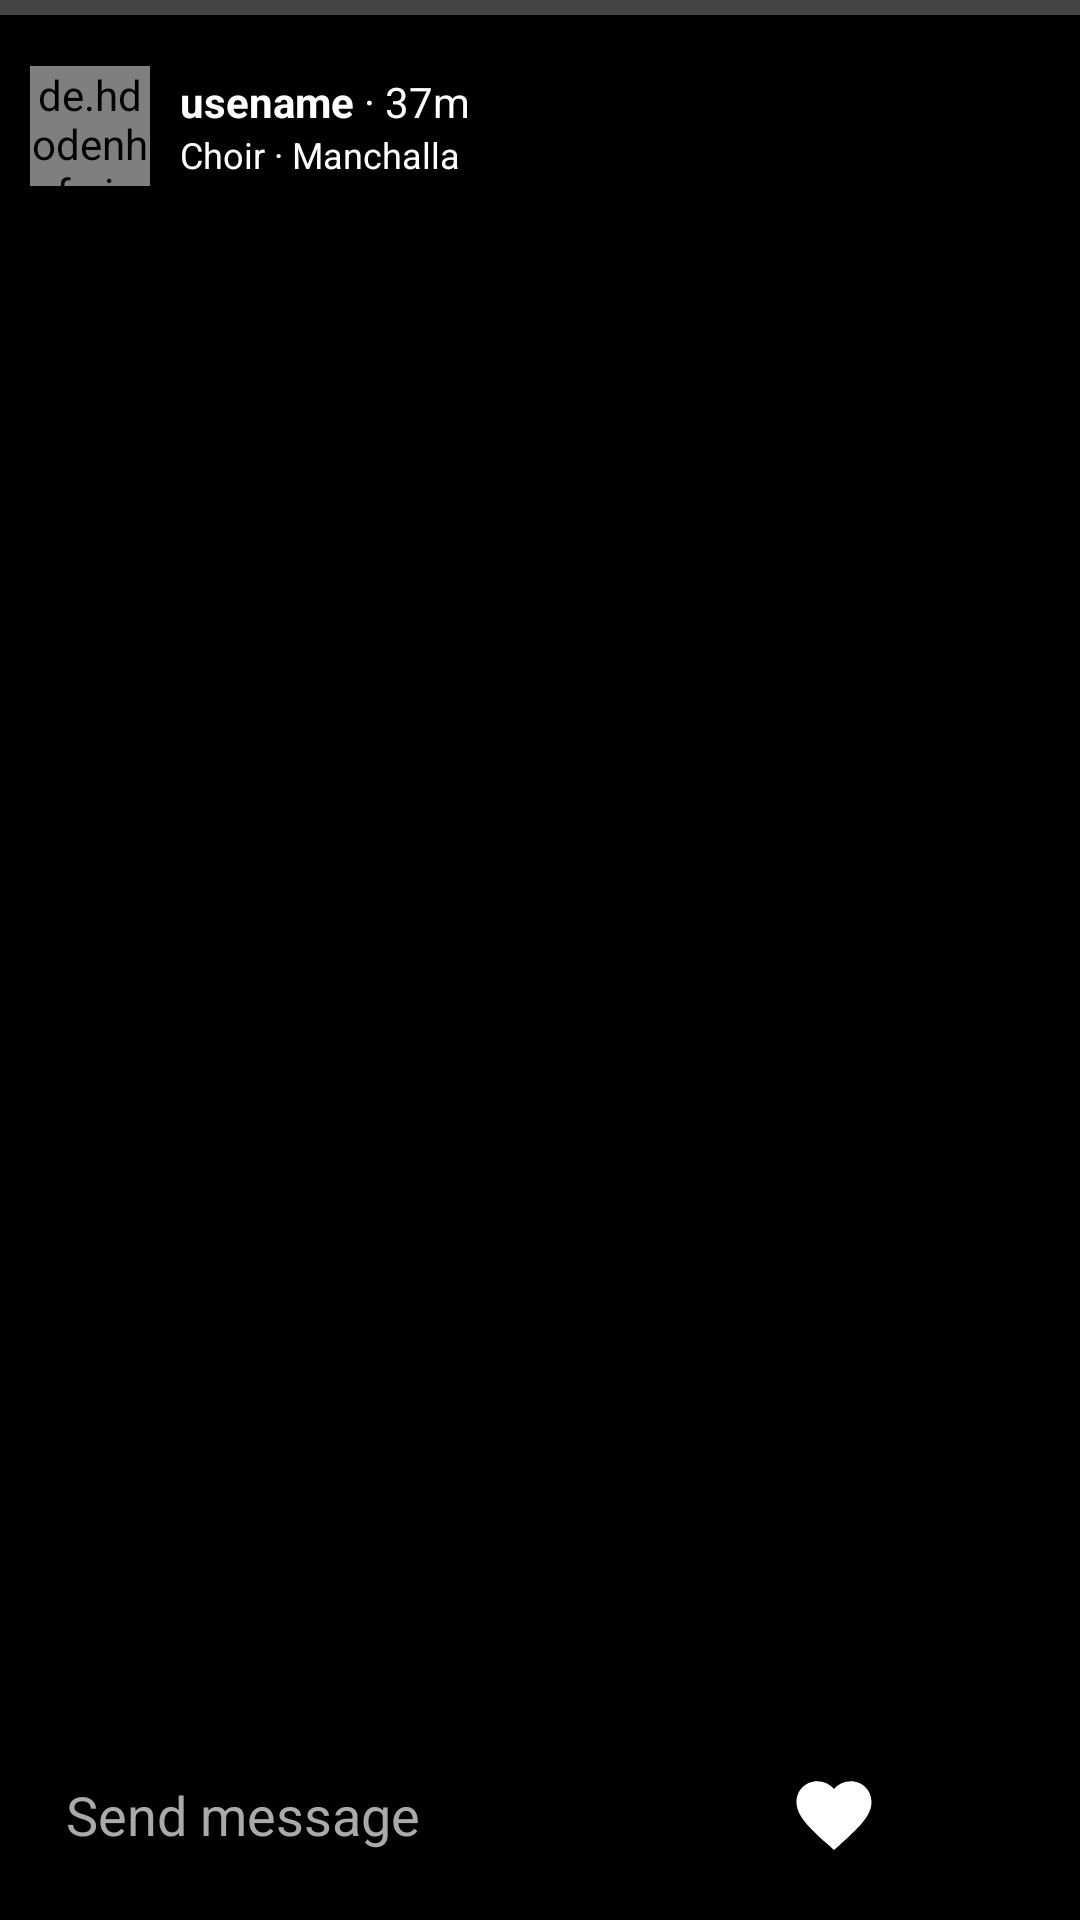

Icon click points for this 1080 × 1920 phone screenshot, format point (x, y):
heart: point (834, 1815)
